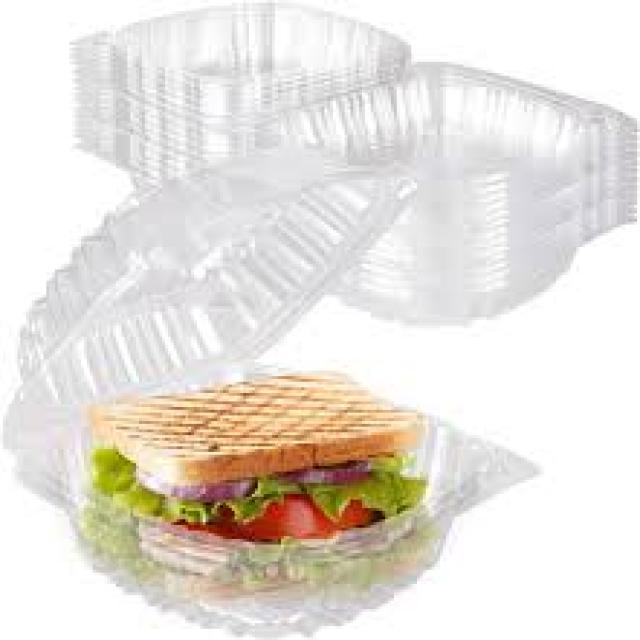disposable: (8, 360, 560, 640)
